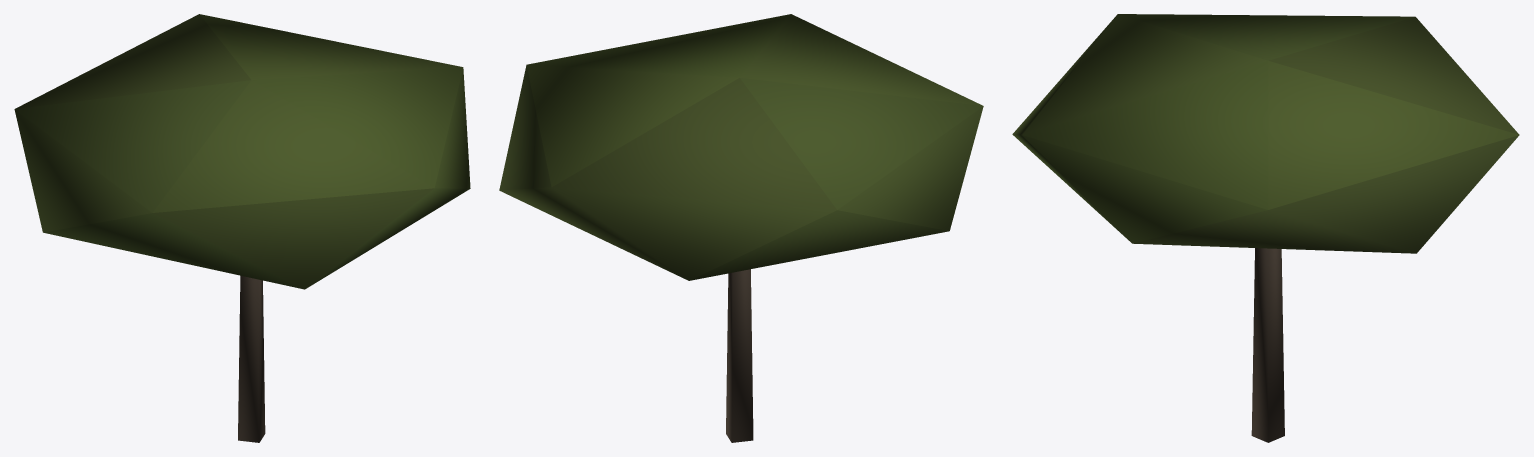
Rendered from env_sav_far.glb.
The picture shows the model from 3 angles, left to right: view 1: azimuth 30°, elevation 25°; view 2: azimuth 150°, elevation 25°; view 3: azimuth 270°, elevation 25°; orthographic projection. The views are drawn at different scales.
Parts seen in each view (by area): view 1: env_sav_far; view 2: env_sav_far; view 3: env_sav_far.
Part boxes in pixels (bbox=[...]): env_sav_far: bbox=[14, 14, 470, 442]; env_sav_far: bbox=[499, 14, 983, 442]; env_sav_far: bbox=[1012, 14, 1519, 442].
Bounding box in the file's own units: 9.21 × 7.47 × 9.16.
